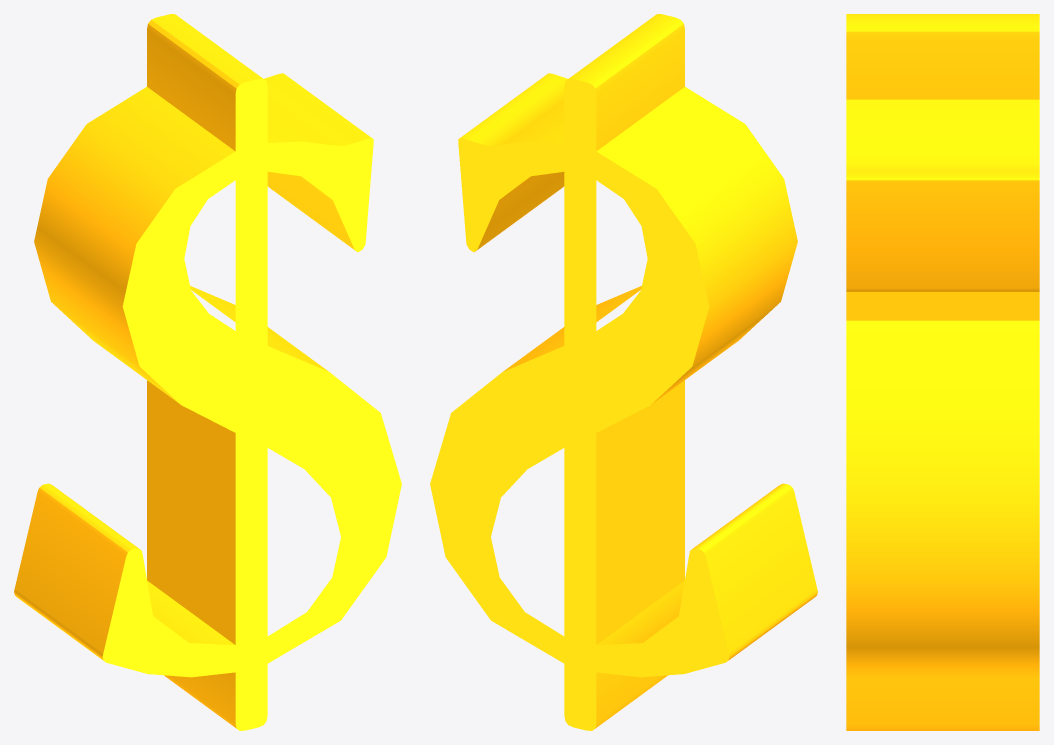
Rendered from symbol$_Soul_Yellow.glb.
The picture shows the model from 3 angles, left to right: view 1: azimuth 30°, elevation 25°; view 2: azimuth 150°, elevation 25°; view 3: azimuth 270°, elevation 25°; orthographic projection. The views are drawn at different scales.
Parts seen in each view (by area): view 1: $_Soul_Yellow; view 2: $_Soul_Yellow; view 3: $_Soul_Yellow.
Part boxes in pixels (x1,y1,x2,y2): $_Soul_Yellow: [14, 14, 401, 730]; $_Soul_Yellow: [430, 14, 817, 730]; $_Soul_Yellow: [846, 14, 1039, 730].
Size of what is drawn, in the model's own units: 0.0878 by 0.1816 by 0.045.
2 materials, 2 textured.
